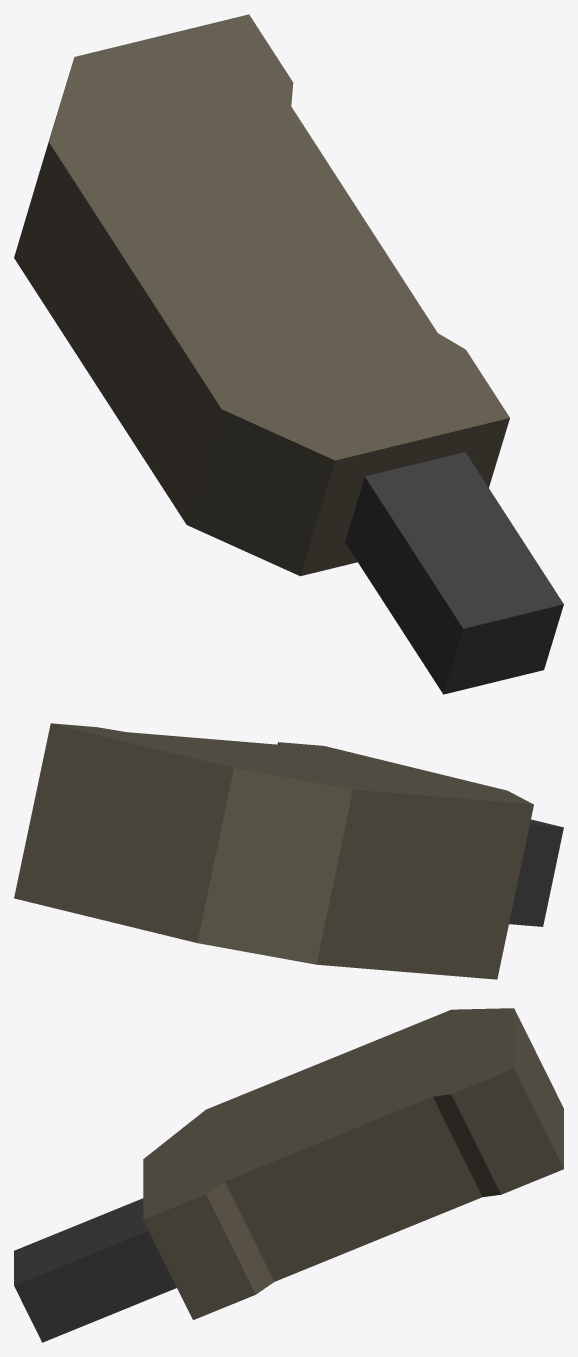
The model's file is AssaultRifle2_01_4.fbx.
3 views of the same model, one above another, from view 1: azimuth 30°, elevation 25°; view 2: azimuth 150°, elevation 25°; view 3: azimuth 270°, elevation 25° (orthographic). The views are drawn at different scales.
Parts seen in each view (by area): view 1: AssaultRifle2_01_4; view 2: AssaultRifle2_01_4; view 3: AssaultRifle2_01_4.
Boxes of the visible parts, bbox=[...] form: AssaultRifle2_01_4: bbox=[14, 14, 563, 694]; AssaultRifle2_01_4: bbox=[14, 723, 563, 979]; AssaultRifle2_01_4: bbox=[14, 1008, 563, 1342].
Size of the model in its own units: 0.0146 by 0.0231 by 0.0401.
